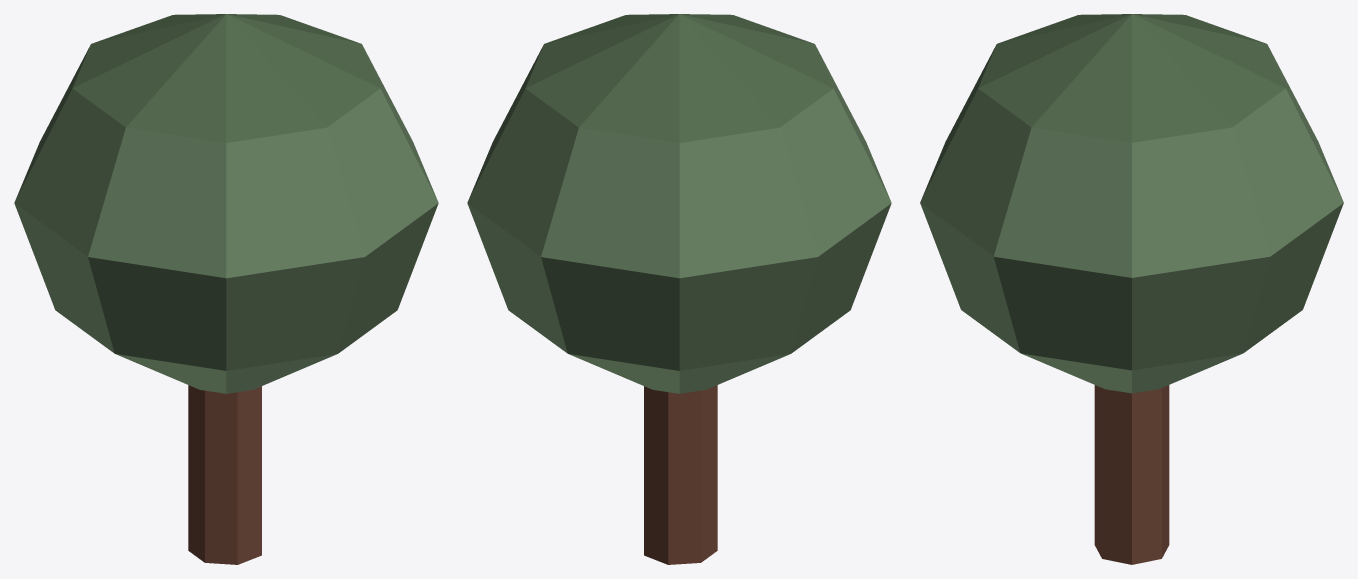
The model's file is tree_round.glb.
3 renders of one model, left to right at view 1: azimuth 30°, elevation 25°; view 2: azimuth 150°, elevation 25°; view 3: azimuth 270°, elevation 25°, orthographic.
Parts seen in each view (by area): view 1: tree_round; view 2: tree_round; view 3: tree_round.
Boxes of the visible parts, x1,y1,x2,y2 form: tree_round: [14, 14, 438, 564]; tree_round: [467, 14, 891, 564]; tree_round: [920, 14, 1343, 564].
Bounding box in the file's own units: 1.2 × 1.7 × 1.22.
